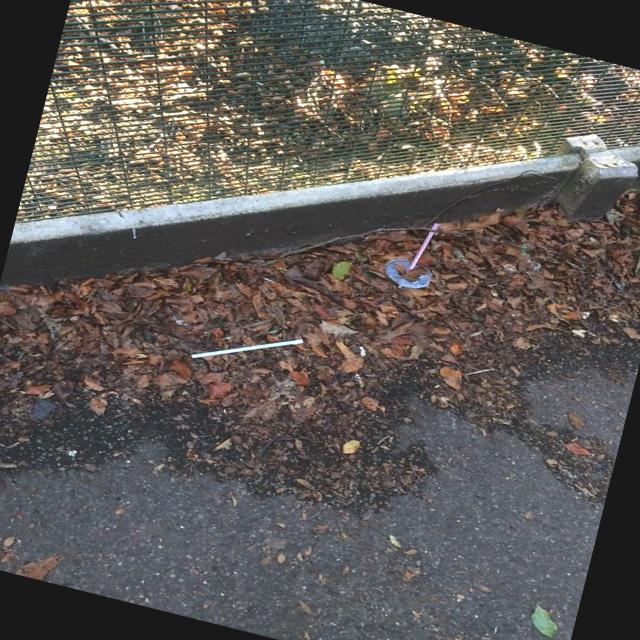Trash: (188, 310, 308, 386), (383, 212, 448, 294)
